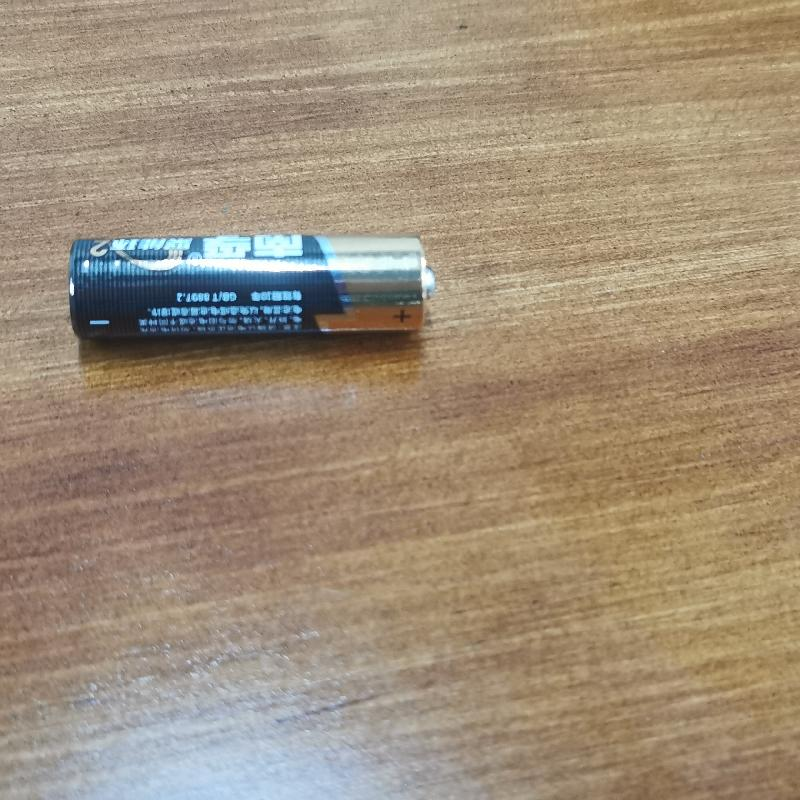battery: (60, 221, 433, 363)
